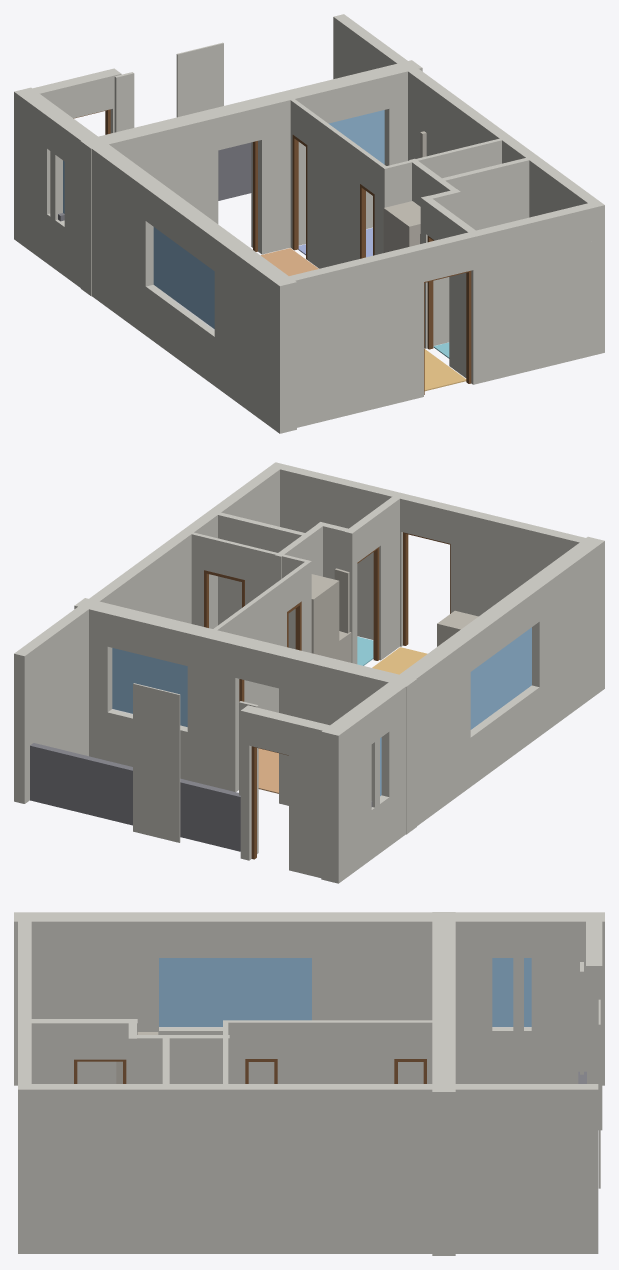
3 renders of one model, top to bottom at view 1: azimuth 30°, elevation 25°; view 2: azimuth 150°, elevation 25°; view 3: azimuth 270°, elevation 25°, orthographic. The views are drawn at different scales.
Visible parts, largest first — view 1: walls, window_3, railings, furniture_1_closet, window_0, door_7, floor_2_Kitchen, floor_0_Living_Room, door_1, door_9; view 2: walls, railings, window_3, window_0, furniture_1_closet, floor_0_Living_Room, door_4, door_1, floor_2_Kitchen, furniture_2_closet, furniture_6_appliance, door_6; view 3: walls, window_3, window_8, window_10.
Boxes of the visible parts, left/top/right/bottom form: walls: left=14, top=14, right=604, bottom=433; window_3: left=153, top=227, right=214, bottom=328; railings: left=58, top=142, right=251, bottom=221; furniture_1_closet: left=383, top=201, right=420, bottom=252; window_0: left=329, top=110, right=384, bottom=164; door_7: left=292, top=135, right=307, bottom=259; floor_2_Kitchen: left=424, top=349, right=466, bottom=391; floor_0_Living_Room: left=261, top=248, right=318, bottom=275; door_1: left=424, top=270, right=471, bottom=394; door_9: left=360, top=184, right=374, bottom=258; walls: left=14, top=462, right=604, bottom=883; railings: left=30, top=743, right=372, bottom=851; window_3: left=470, top=627, right=531, bottom=729; window_0: left=112, top=648, right=187, bottom=726; furniture_1_closet: left=311, top=574, right=339, bottom=659; floor_0_Living_Room: left=258, top=748, right=278, bottom=793; door_4: left=357, top=547, right=379, bottom=660; door_1: left=403, top=532, right=450, bottom=645; floor_2_Kitchen: left=372, top=647, right=427, bottom=674; furniture_2_closet: left=334, top=568, right=349, bottom=633; furniture_6_appliance: left=437, top=610, right=478, bottom=646; door_6: left=251, top=746, right=288, bottom=859; walls: left=14, top=912, right=604, bottom=1255; window_3: left=159, top=958, right=311, bottom=1026; window_8: left=492, top=958, right=513, bottom=1026; window_10: left=524, top=958, right=531, bottom=1026.
Bounding box in the file's own units: 6.34 × 2.72 × 8.81.
